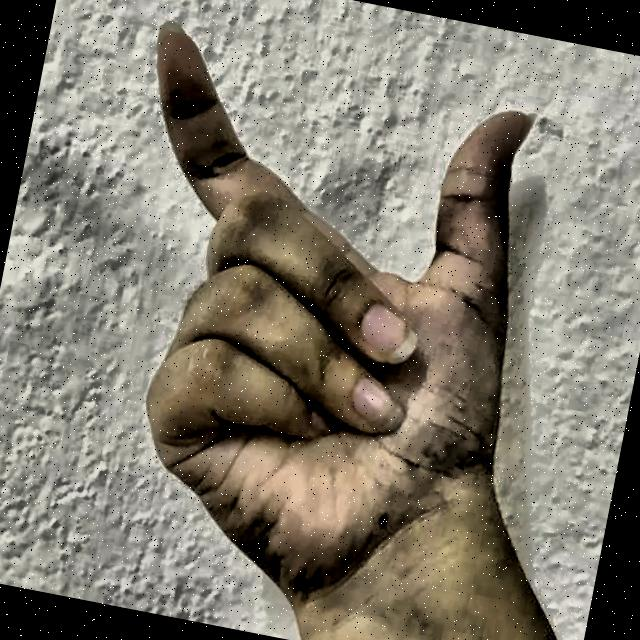ChandraBindu: (20, 0, 601, 640)
